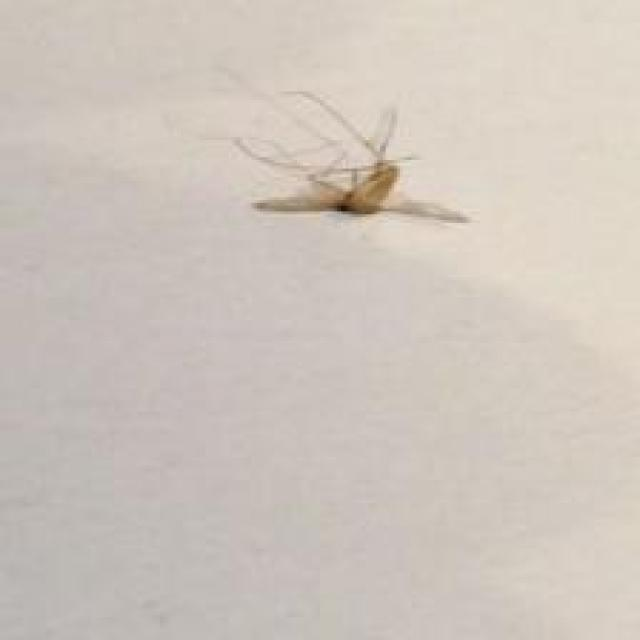Culex: (232, 84, 472, 224)
